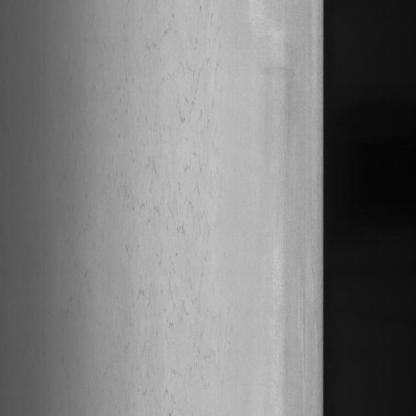silk_spot: (106, 0, 211, 390)
